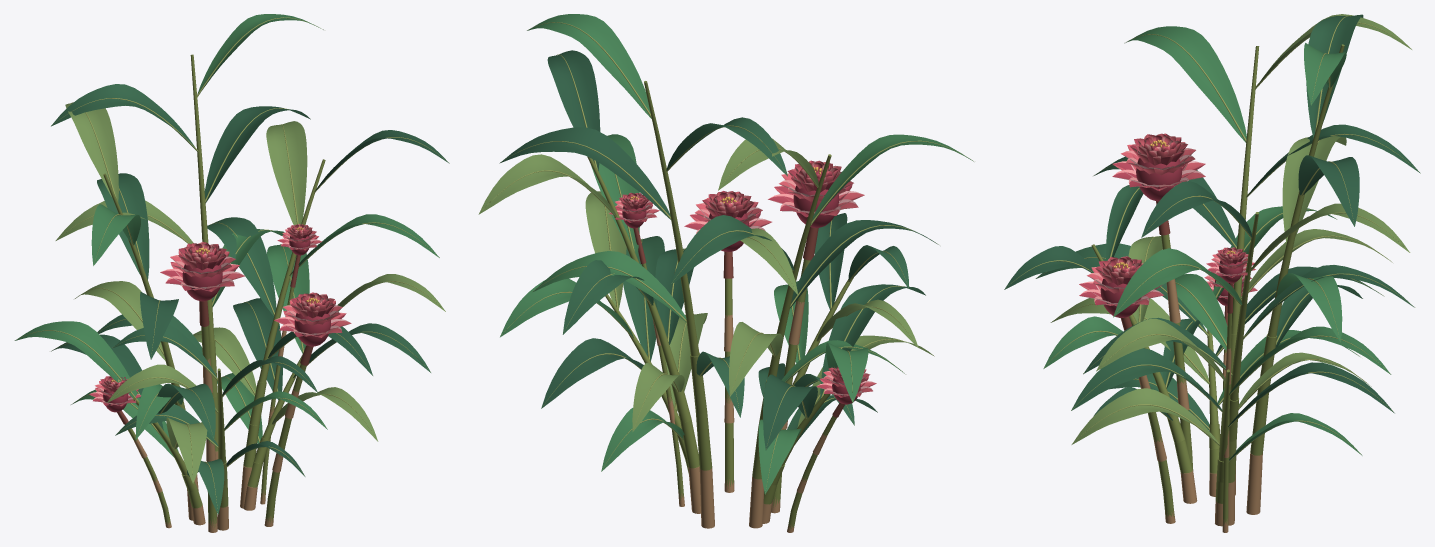
The picture shows the model from 3 angles, left to right: view 1: azimuth 30°, elevation 25°; view 2: azimuth 150°, elevation 25°; view 3: azimuth 270°, elevation 25°; orthographic projection. The views are drawn at different scales.
Parts seen in each view (by area): view 1: Broad lance leaves, Leaf shoots, Torch heads, Blooming scapes; view 2: Broad lance leaves, Leaf shoots, Torch heads, Blooming scapes; view 3: Broad lance leaves, Leaf shoots, Torch heads, Blooming scapes.
Boxes of the visible parts, left/top/right/bottom form: Broad lance leaves: left=15, top=14, right=449, bottom=513; Leaf shoots: left=16, top=17, right=447, bottom=530; Torch heads: left=89, top=224, right=351, bottom=412; Blooming scapes: left=117, top=255, right=313, bottom=532; Broad lance leaves: left=479, top=14, right=973, bottom=494; Leaf shoots: left=482, top=22, right=972, bottom=528; Torch heads: left=609, top=160, right=876, bottom=404; Blooming scapes: left=633, top=227, right=844, bottom=532; Broad lance leaves: left=1004, top=14, right=1420, bottom=460; Leaf shoots: left=1006, top=15, right=1418, bottom=526; Torch heads: left=1079, top=133, right=1257, bottom=317; Blooming scapes: left=1120, top=201, right=1233, bottom=532.
Size of the model in its own units: 1.67 by 1.95 by 1.45.
